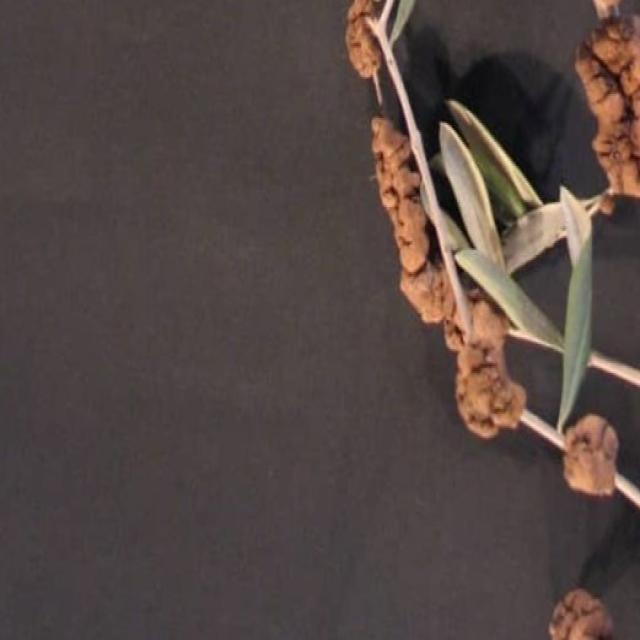Tuberculosis: (374, 116, 526, 438), (575, 0, 639, 197), (562, 412, 620, 497), (549, 587, 614, 638), (345, 0, 382, 79)
